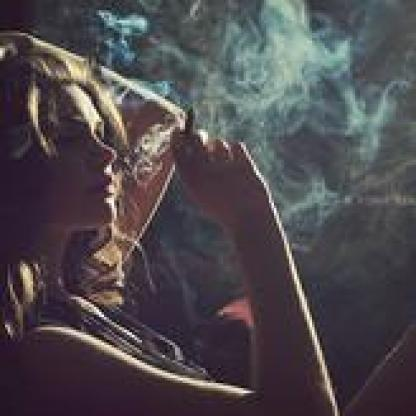smoke: (97, 3, 416, 272)
